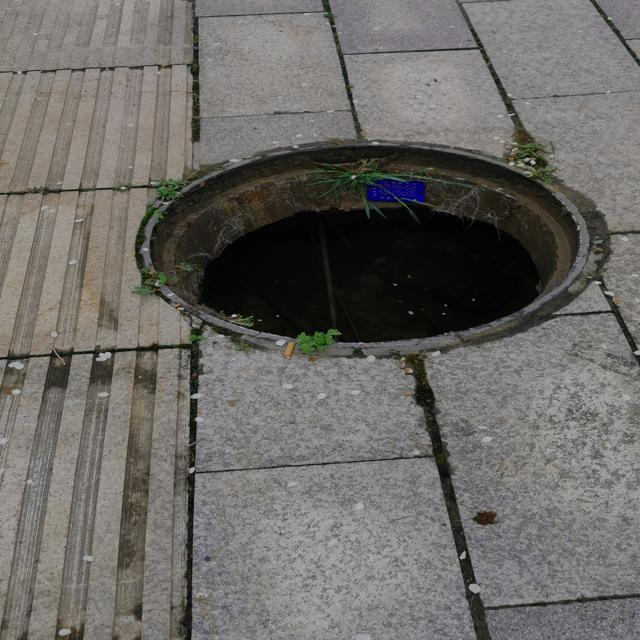lose: (138, 136, 591, 355)
